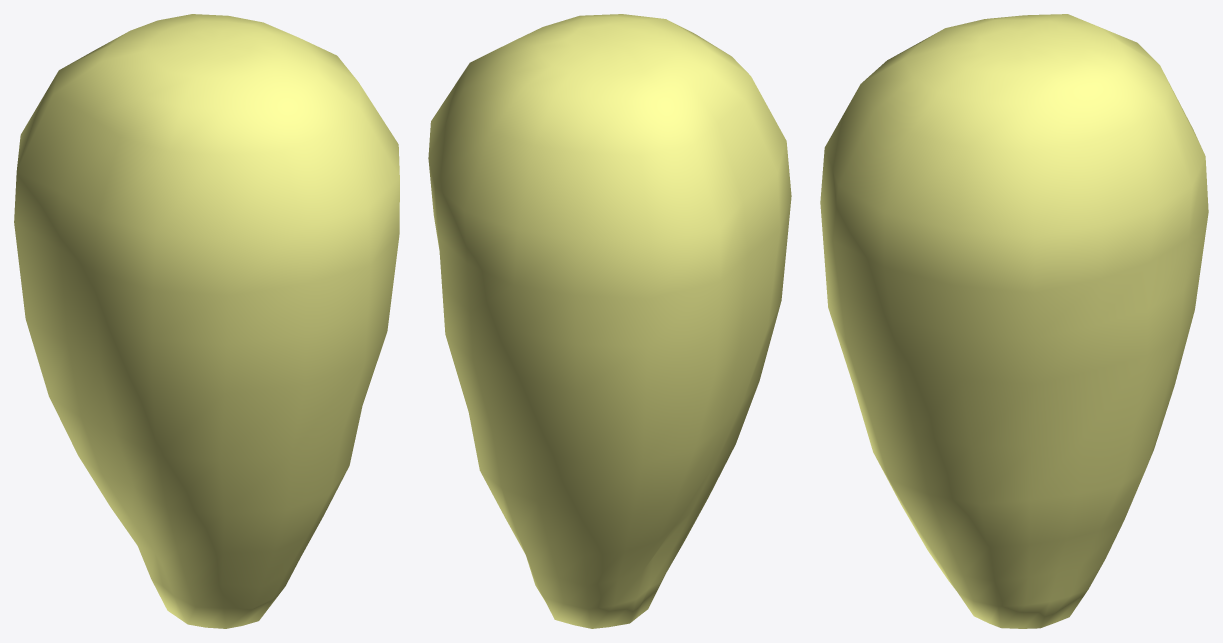
The model's file is MeshLettuceA1_0.obj.
3 views of the same model, side by side, from view 1: azimuth 30°, elevation 25°; view 2: azimuth 150°, elevation 25°; view 3: azimuth 270°, elevation 25° (orthographic).
Parts seen in each view (by area): view 1: LettuceA1; view 2: LettuceA1; view 3: LettuceA1.
Boxes of the visible parts, box(x1,y1,x2,y2) form: LettuceA1: box(14, 14, 399, 628); LettuceA1: box(428, 14, 791, 628); LettuceA1: box(820, 14, 1208, 628).
Size of the model in its own units: 0.1434 by 0.244 by 0.1494.
